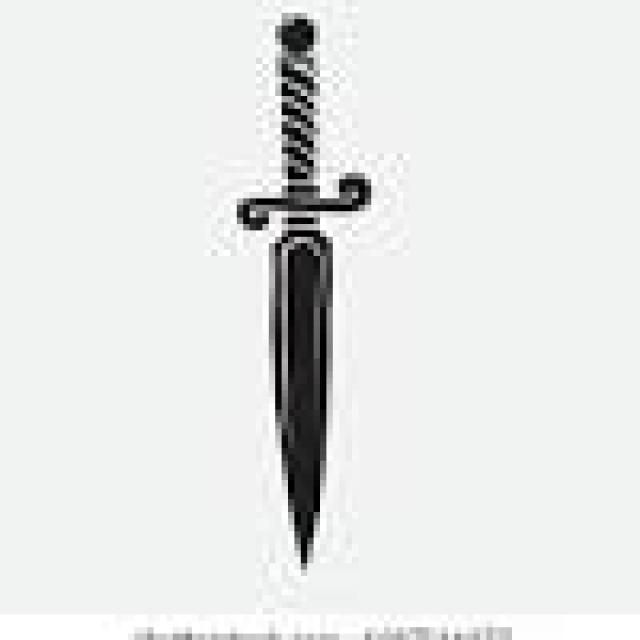Gun: (219, 0, 380, 569)
